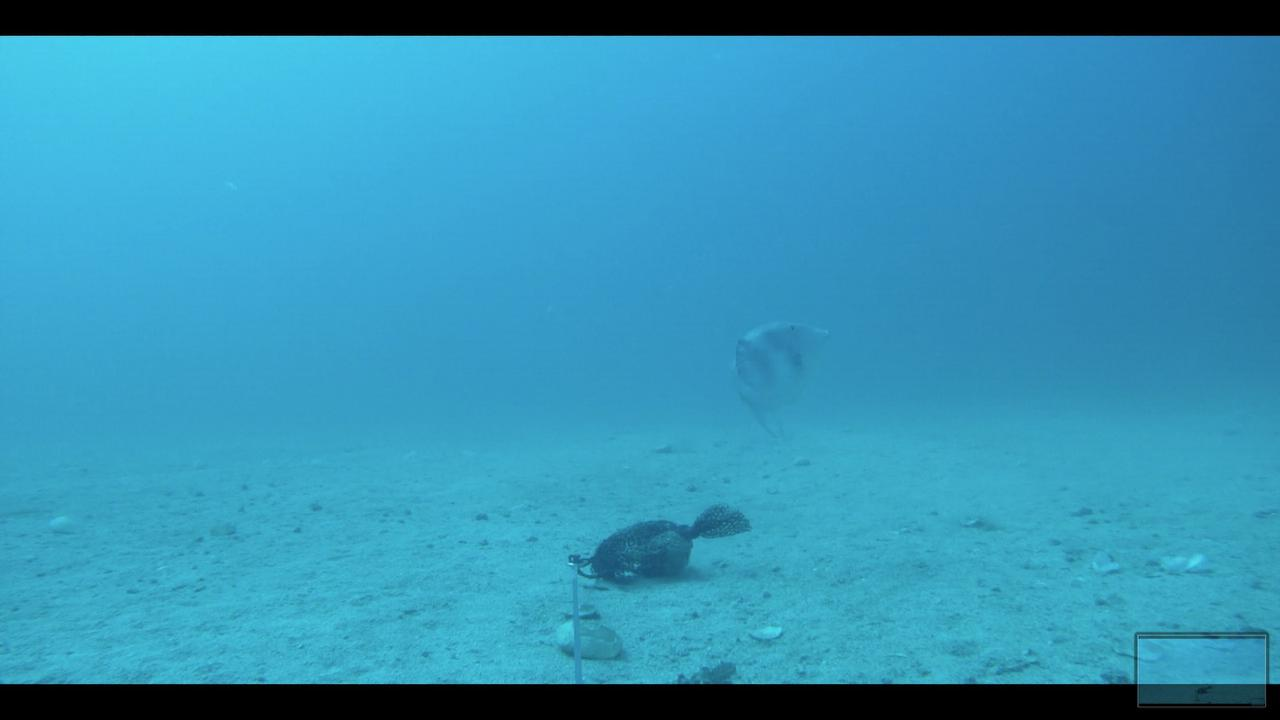balistes: (715, 312, 837, 440)
